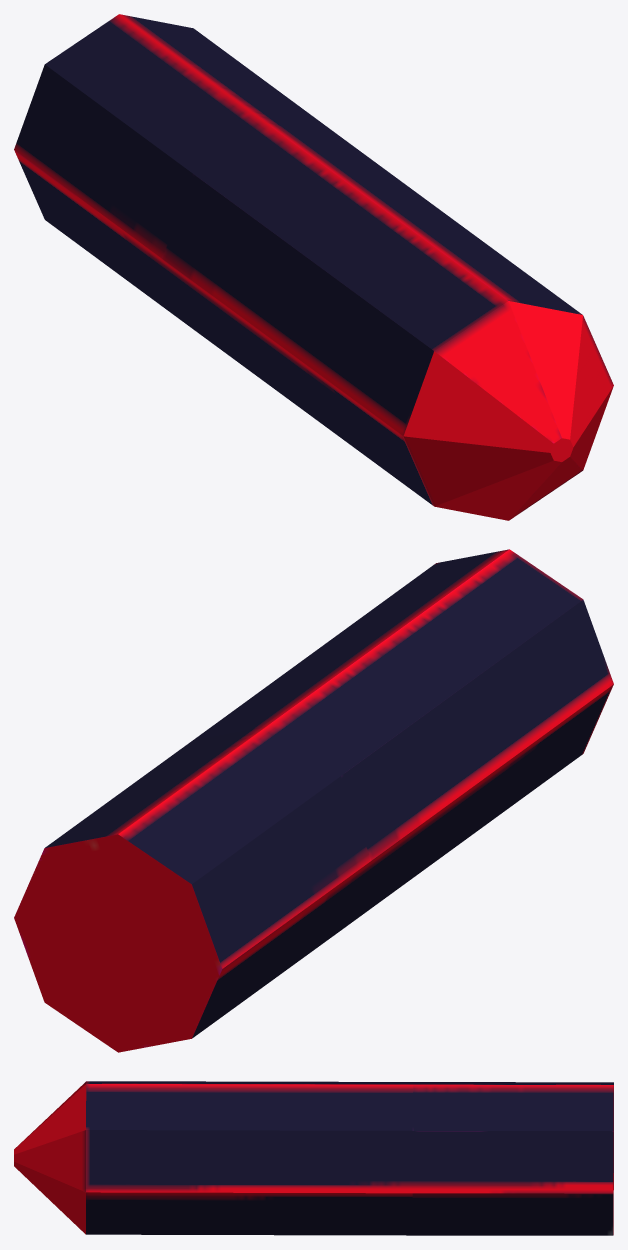
Rendered from rocket_amo_scaled.fbx.
3 views of the same model, one above another, from view 1: azimuth 30°, elevation 25°; view 2: azimuth 150°, elevation 25°; view 3: azimuth 270°, elevation 25° (orthographic). The views are drawn at different scales.
Parts seen in each view (by area): view 1: rocket_shot; view 2: rocket_shot; view 3: rocket_shot.
Boxes of the visible parts, x1,y1,x2,y2 form: rocket_shot: [14, 14, 613, 520]; rocket_shot: [14, 549, 613, 1052]; rocket_shot: [14, 1081, 613, 1235].
Size of the model in its own units: 9.22 by 9.14 by 33.49.
